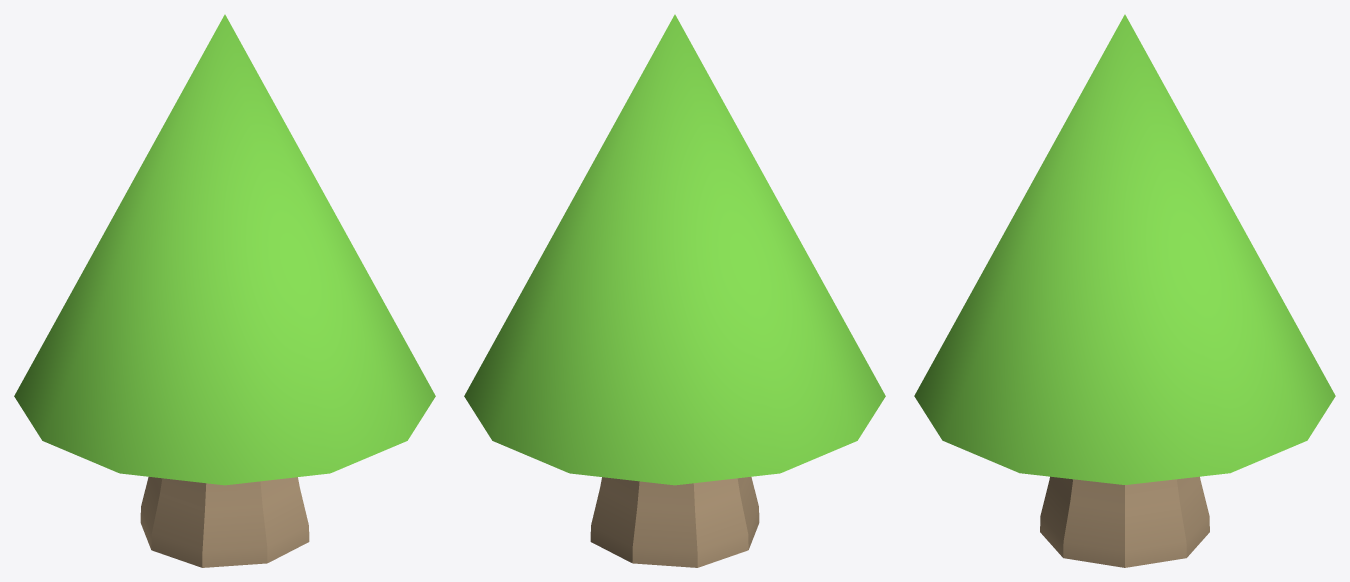
File: prototypetree.fbx
The picture shows the model from 3 angles, left to right: view 1: azimuth 30°, elevation 25°; view 2: azimuth 150°, elevation 25°; view 3: azimuth 270°, elevation 25°; orthographic projection.
Parts seen in each view (by area): view 1: Cube; view 2: Cube; view 3: Cube.
Boxes of the visible parts, left/top/right/bottom form: Cube: left=14, top=14, right=435, bottom=567; Cube: left=464, top=14, right=885, bottom=567; Cube: left=914, top=14, right=1335, bottom=567.
Bounding box in the file's own units: 177 × 242 × 177.
